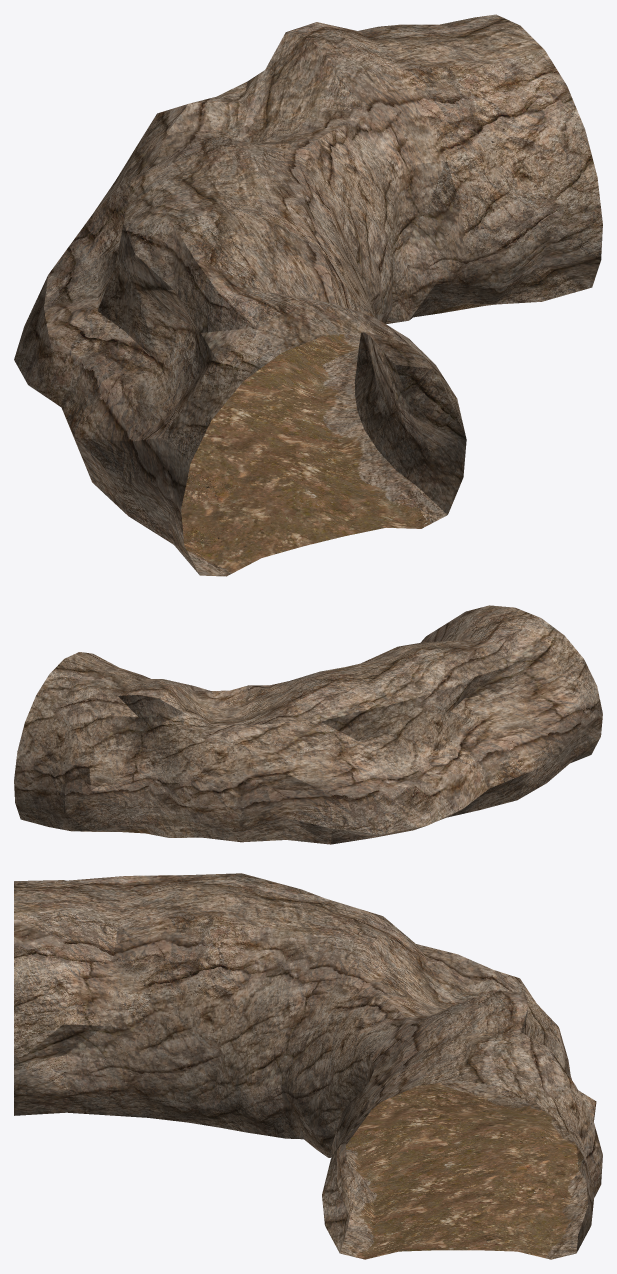
The model's file is CaveCorridorTurnRight.obj.
3 views of the same model, one above another, from view 1: azimuth 30°, elevation 25°; view 2: azimuth 150°, elevation 25°; view 3: azimuth 270°, elevation 25° (orthographic). The views are drawn at different scales.
Parts seen in each view (by area): view 1: CaveCorridorTurnRight; view 2: CaveCorridorTurnRight; view 3: CaveCorridorTurnRight.
Part boxes in pixels (x1,y1,x2,y2): CaveCorridorTurnRight: (14, 14, 602, 576); CaveCorridorTurnRight: (14, 605, 602, 844); CaveCorridorTurnRight: (14, 873, 602, 1259).
Bounding box in the file's own units: 6.8 × 2.6 × 6.9.
